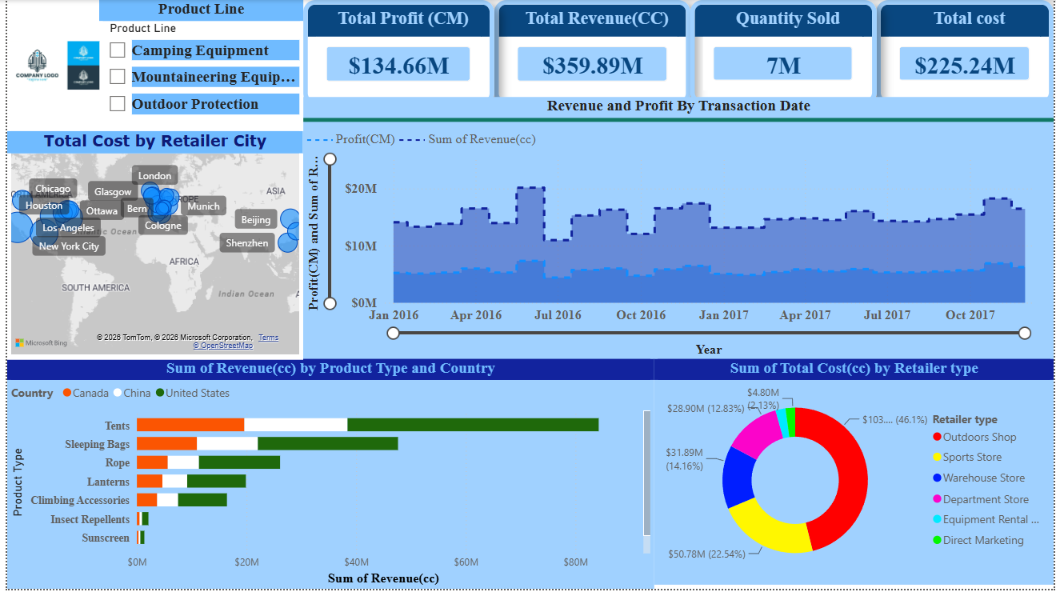

What the dashboard file says about the page in this screenshot:
{"tool":"powerbi","page":{"name":"Dash Board","canvas":[1280,720],"ordinal":0},"visuals":[{"type":"cardVisual","title":"Total cost","fields":{"Data":["Sum(Sales Table.Total Cost(cc))"]},"box":[1063.2,0,216.8,127.6],"z":0},{"type":"cardVisual","title":"Total Revenue(CC)","fields":{"Data":["Sum(Sales Table.Revenue(cc))"]},"box":[595.5,0,240.1,129],"z":1000},{"type":"cardVisual","title":"Quantity Sold","fields":{"Data":["Sum(Sales Table.Quantity Sold)"]},"box":[835.7,0,227.8,127.6],"z":2000},{"type":"cardVisual","title":"Total Profit (CM)","fields":{"Data":["Sales Table.Profit(CM)"]},"box":[362.3,0,233.3,129],"z":3000},{"type":"areaChart","title":"Revenue and Profit By Transaction Date","fields":{"Y":["Sales Table.Profit(CM)","Sum(Sales Table.Revenue(cc))"],"Category":["Sales Table.Transaction Date.Variation.Date Hierarchy.Year","Sales Table.Transaction Date.Variation.Date Hierarchy.Quarter","Sales Table.Transaction Date.Variation.Date Hierarchy.Month"]},"box":[362,118.6,918.3,320.4],"z":4000},{"type":"donutChart","fields":{"Category":["Sales Table.Retailer type"],"Y":["Sum(Sales Table.Total Cost(cc))"]},"box":[791.2,439,489.1,276.4],"z":5000},{"type":"barChart","fields":{"Category":["Product Table.Product Type"],"Series":["Country Table.Country "],"Y":["Sum(Sales Table.Revenue(cc))"]},"box":[0,439,791.2,281.3],"z":6000},{"type":"slicer","title":"Product Line","fields":{"Values":["Product Table.Product Line"]},"box":[112.5,0,249.5,160.2],"z":7000},{"type":"map","title":"Total Cost by Retailer City","fields":{"Category":["Sales Table.Retailer City"],"Size":["Sum(Sales Table.Total Cost(cc))"]},"box":[0,160.2,362,278.8],"z":8000},{"type":"image","box":[0,0,112.5,160.2],"z":9000}]}

Visuals, with their boxes in screenshot pixels (x1, y1, x2, y2), scaled from the page's 1280x720 canvas onto the 1056x591 screenshot:
"Total cost" cardVisual: bbox(877, 0, 1055, 105)
"Total Revenue(CC)" cardVisual: bbox(491, 0, 689, 106)
"Quantity Sold" cardVisual: bbox(689, 0, 877, 105)
"Total Profit (CM)" cardVisual: bbox(299, 0, 491, 106)
"Revenue and Profit By Transaction Date" areaChart: bbox(299, 97, 1055, 360)
donutChart - Sales Table.Retailer type x Sum(Sales Table.Total Cost(cc)): bbox(653, 360, 1055, 587)
barChart - Product Table.Product Type x Country Table.Country : bbox(0, 360, 653, 590)
"Product Line" slicer: bbox(93, 0, 299, 131)
"Total Cost by Retailer City" map: bbox(0, 131, 299, 360)
image: bbox(0, 0, 93, 131)
